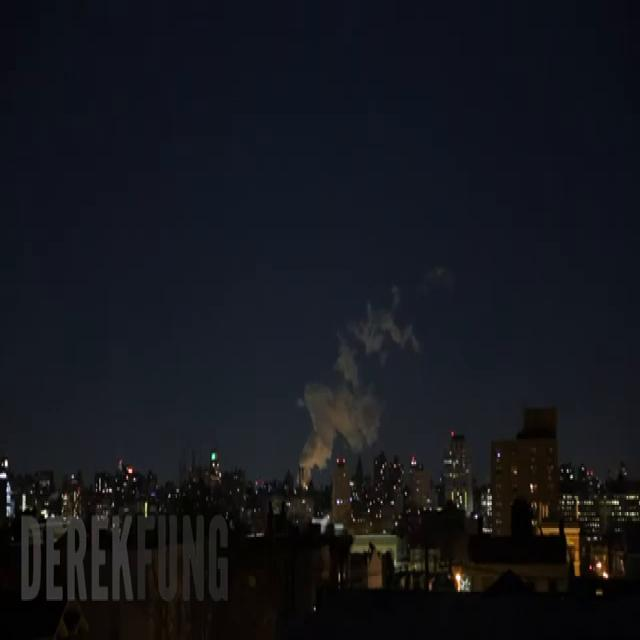smoke: (300, 288, 416, 466)
